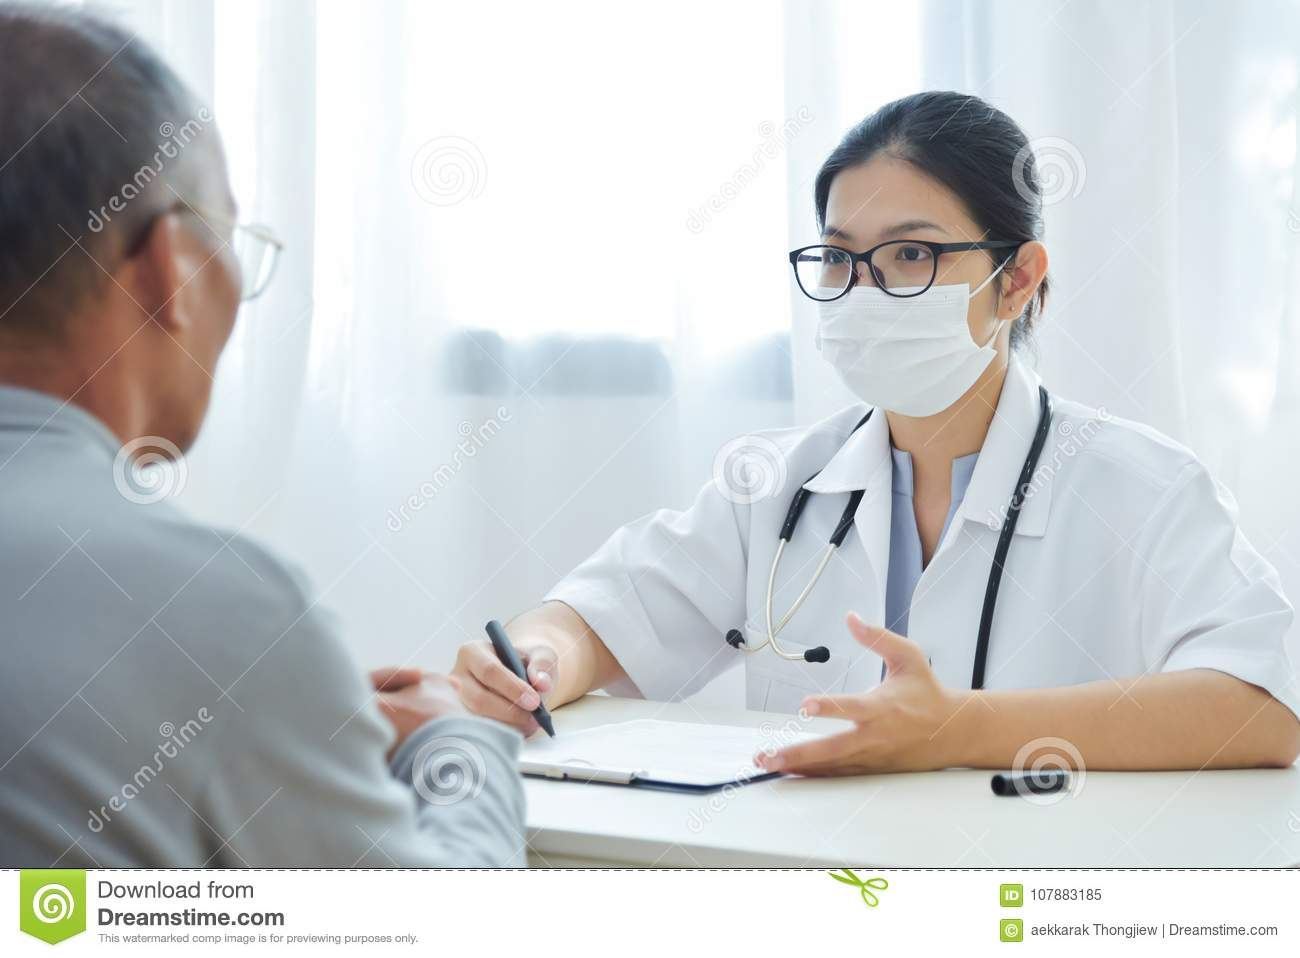mask: (807, 282, 995, 421)
